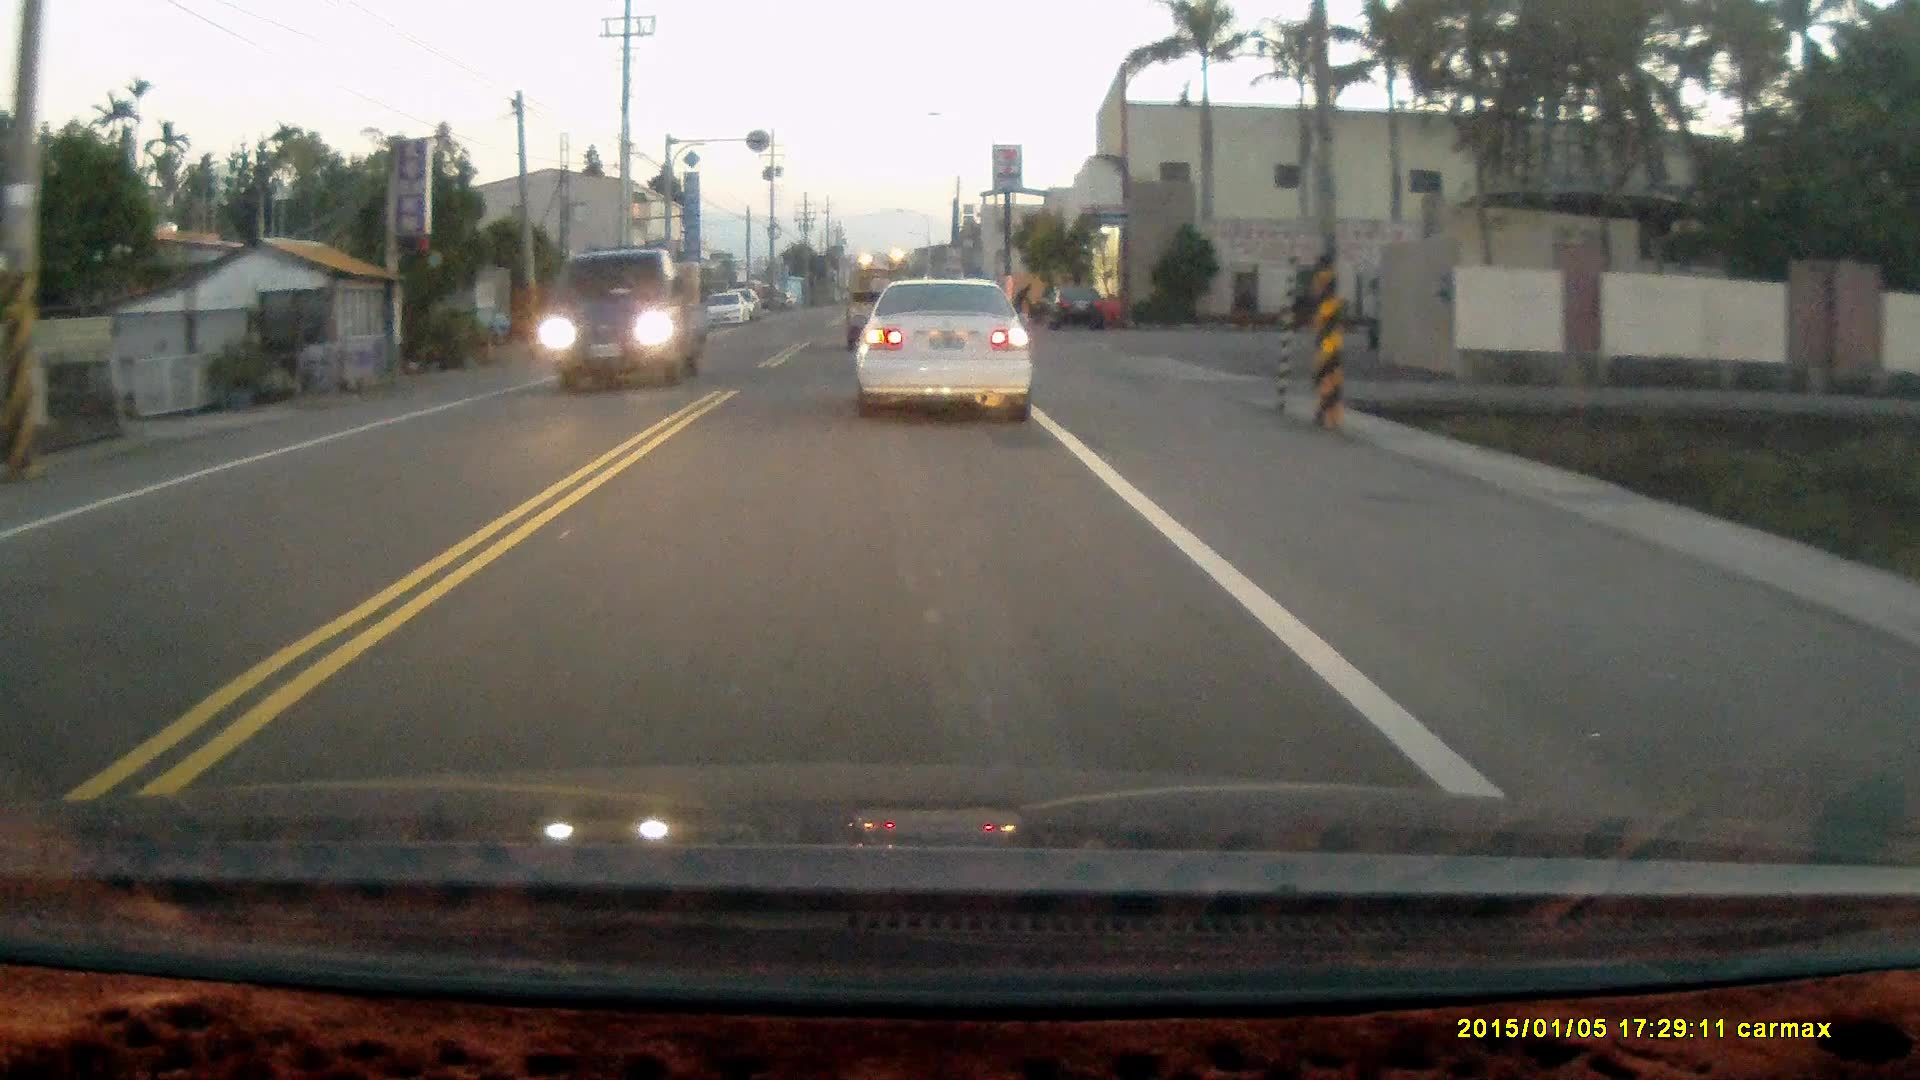rider: (1004, 281, 1042, 326)
vehicle: (860, 276, 1037, 432), (541, 251, 713, 396), (845, 272, 922, 360), (1044, 285, 1106, 336), (701, 292, 752, 330)
